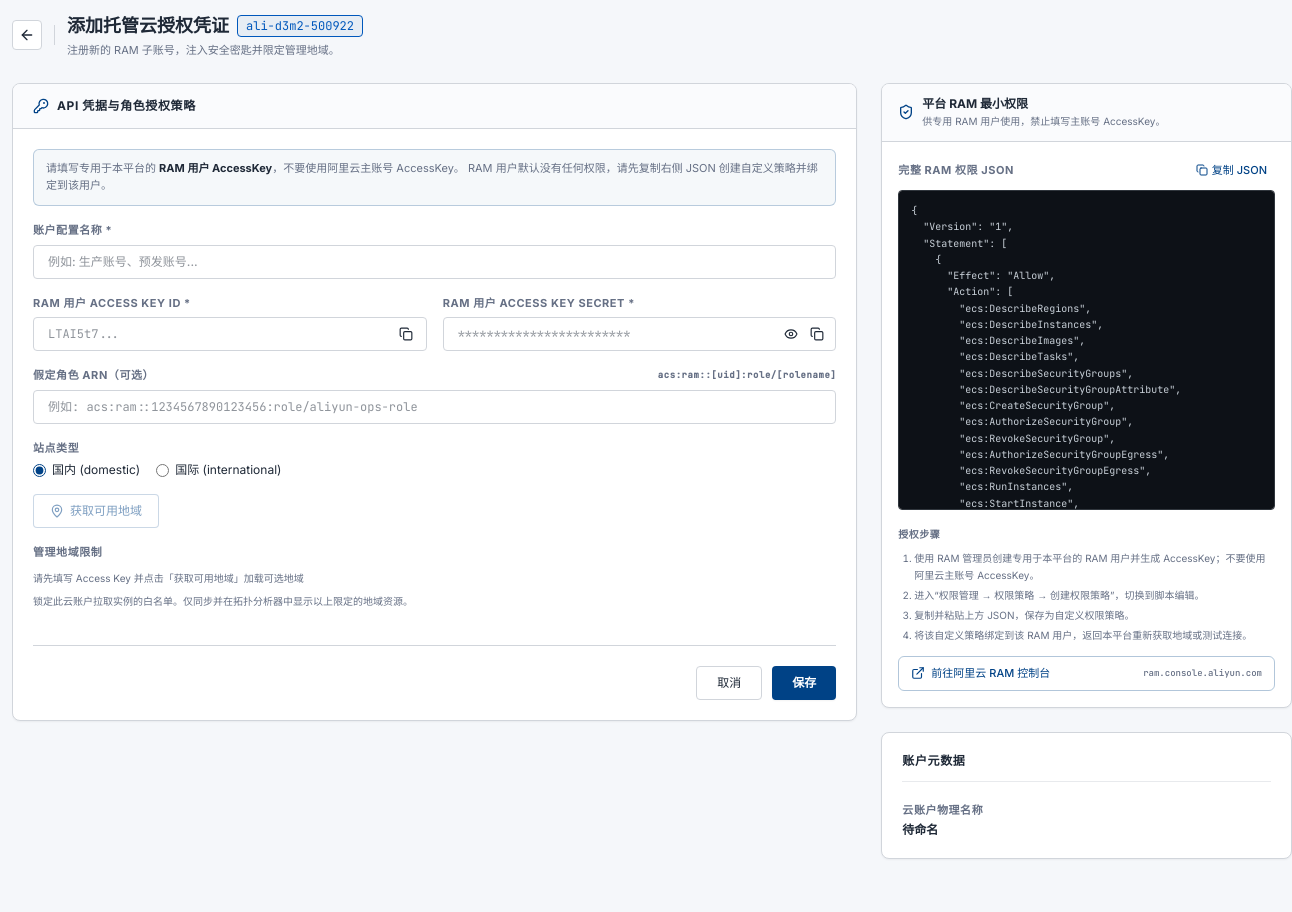
Scenario: account RAM authorization guide › does not offer RAM repair for a credential-shaped region error
Type "LTAI5t7TEST" into the field with placeholder "LTAI5t7...". click: (230, 334)
box: [33,317,427,351]
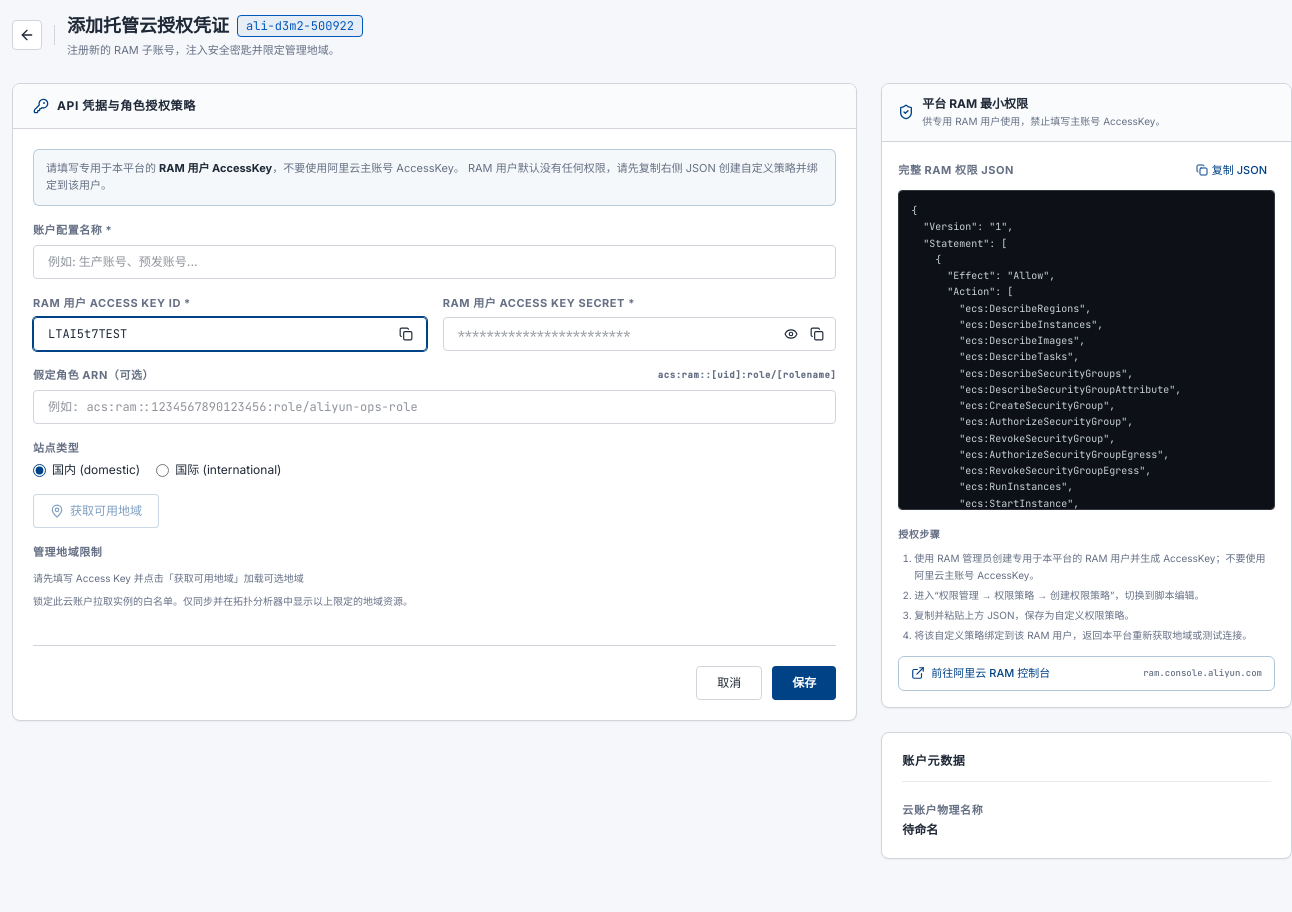
Type "secret123" into the password field with placeholder "************************". click: (640, 334)
box: [443,317,836,351]
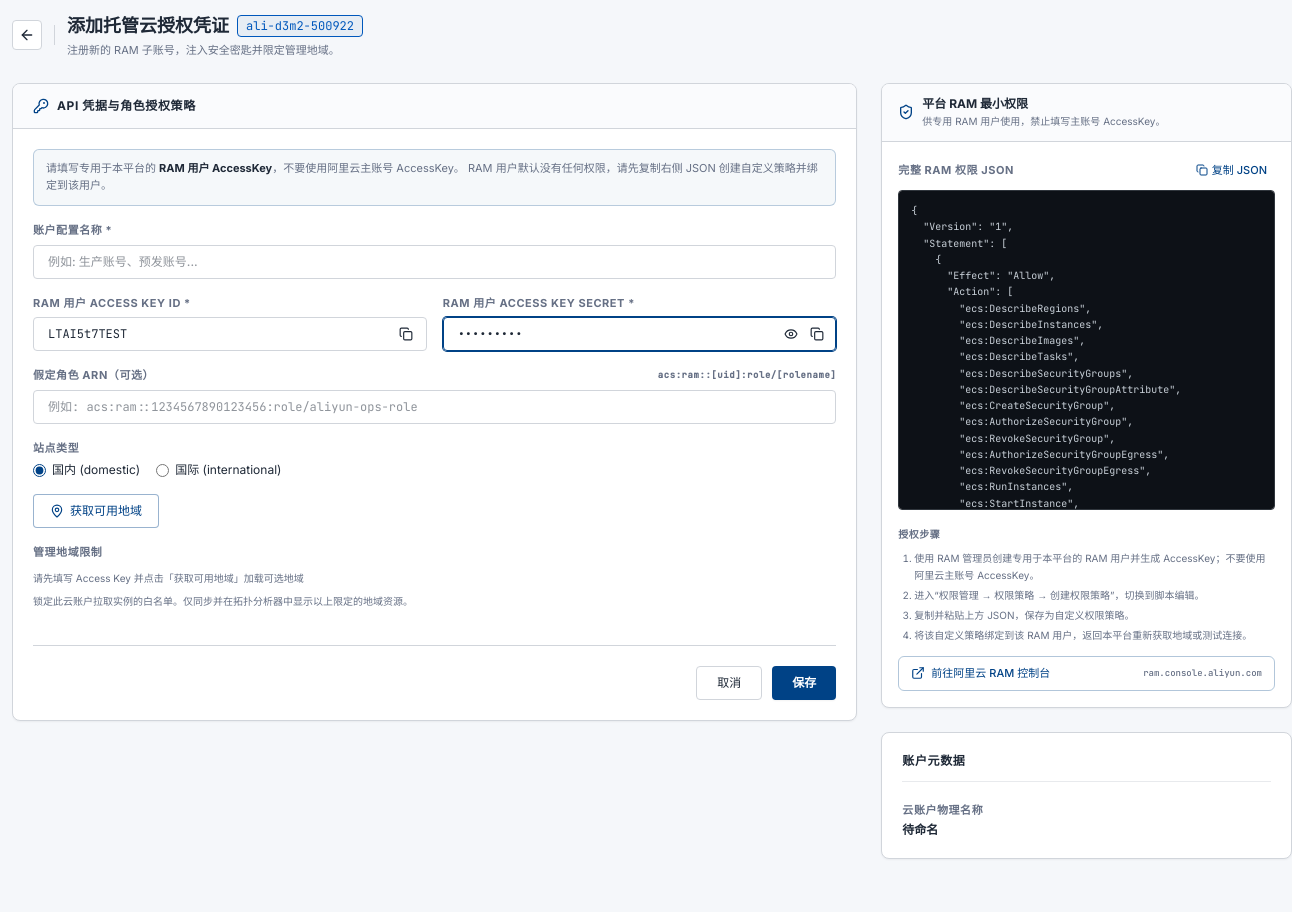
Click the button "获取可用地域". click: (96, 511)
box: [33,494,159,528]
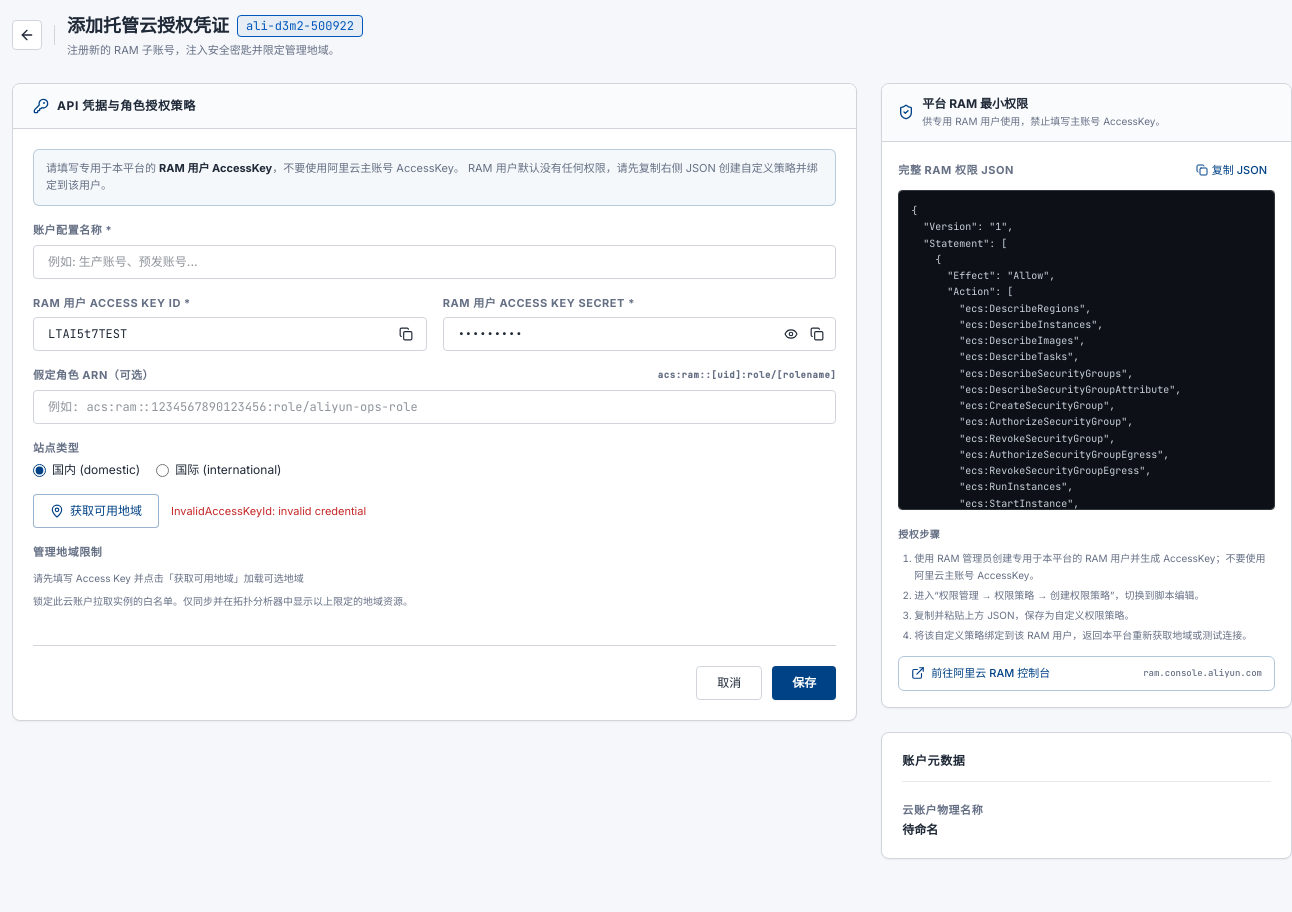
Expected: the text "InvalidAccessKeyId: invalid credential" is shown, [171,503,366,520]
